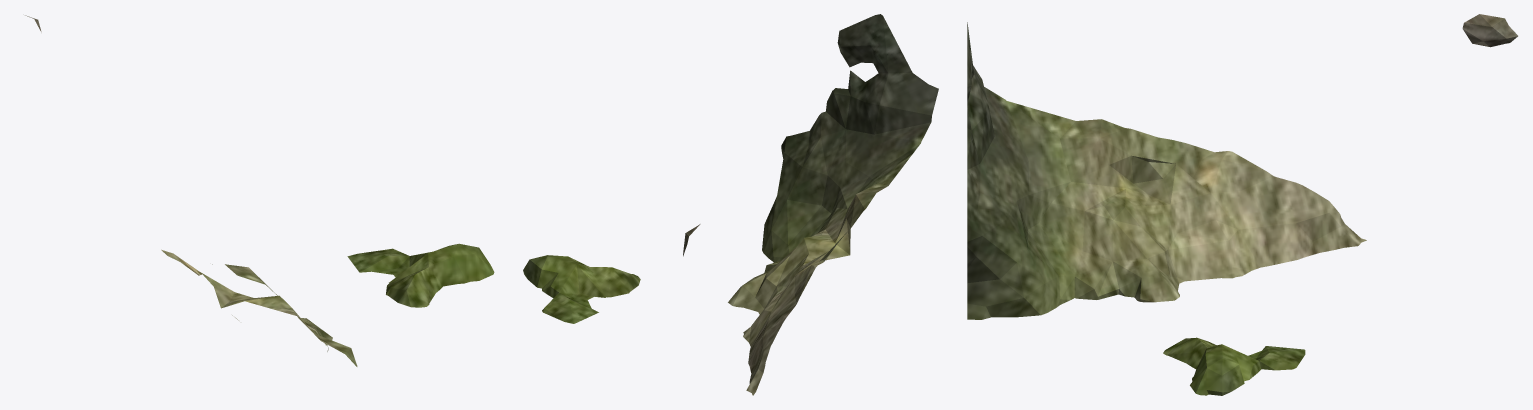
3 views of the same model, side by side, from view 1: azimuth 30°, elevation 25°; view 2: azimuth 150°, elevation 25°; view 3: azimuth 270°, elevation 25° (orthographic). The views are drawn at different scales.
Bounding box in the file's own units: 1.94 × 1.44 × 2.89.
Materials: 1 (1 with a texture image).
